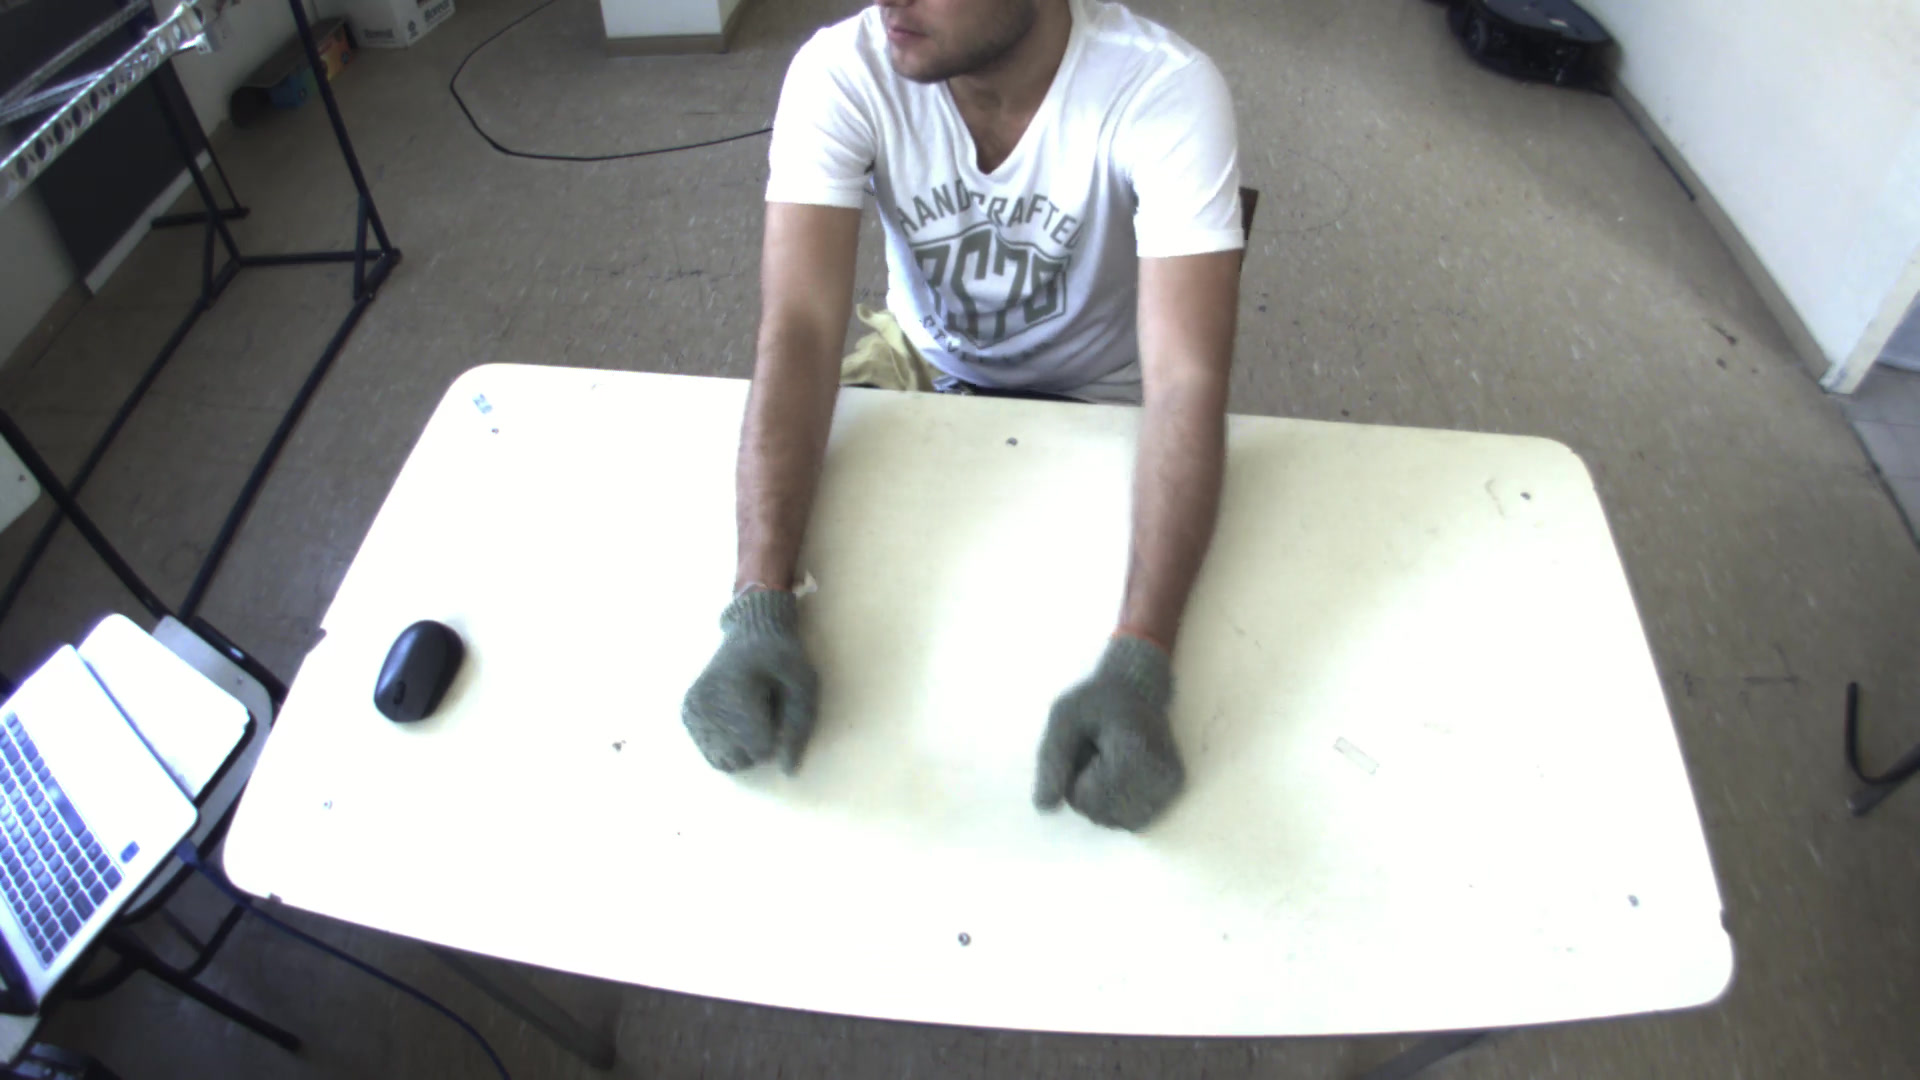hand: (1022, 629, 1193, 839), (671, 574, 829, 781)
